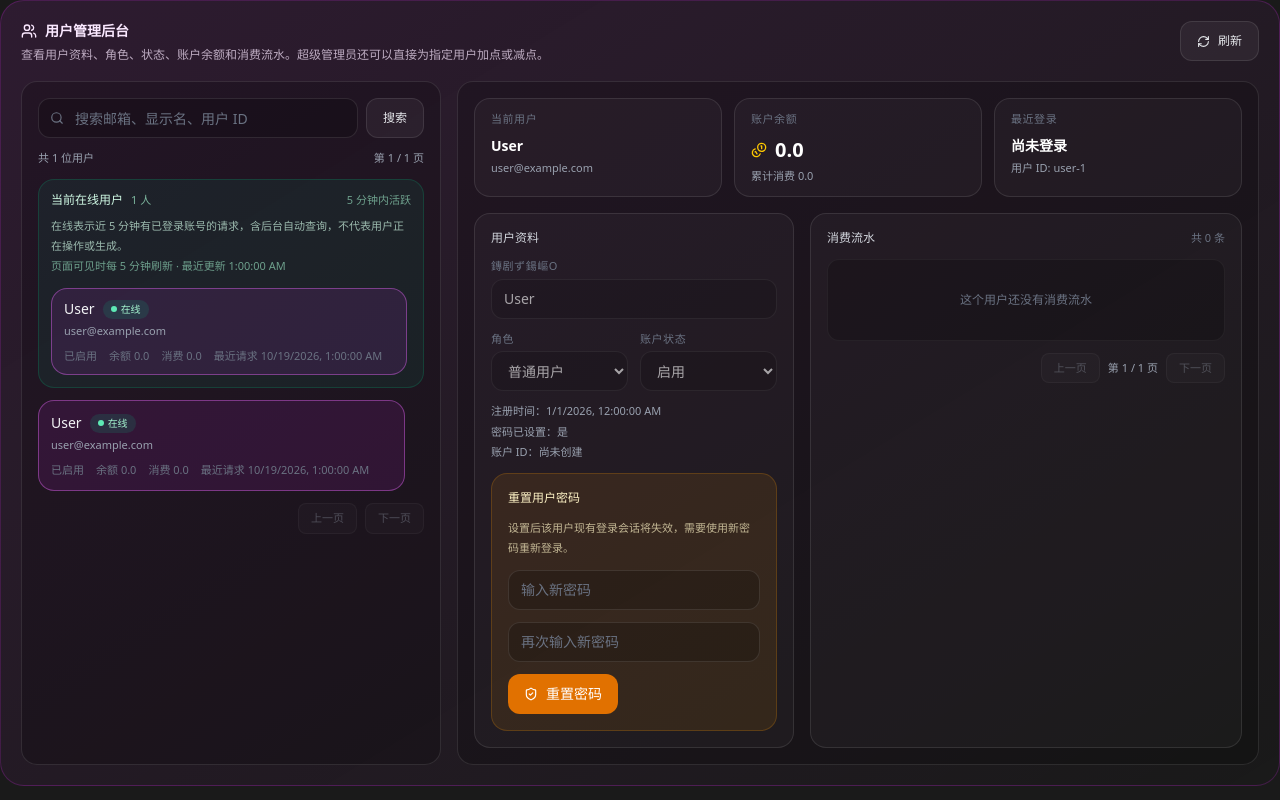
Test case: UserAdminPanel online status refresh › ignores a delayed background response after a different search is loaded
The image size is (1280, 800).
Step 1. Type "absent" into the field with placeholder "搜索邮箱、显示名、用户 ID" → (198, 118), box [38,98,358,138]
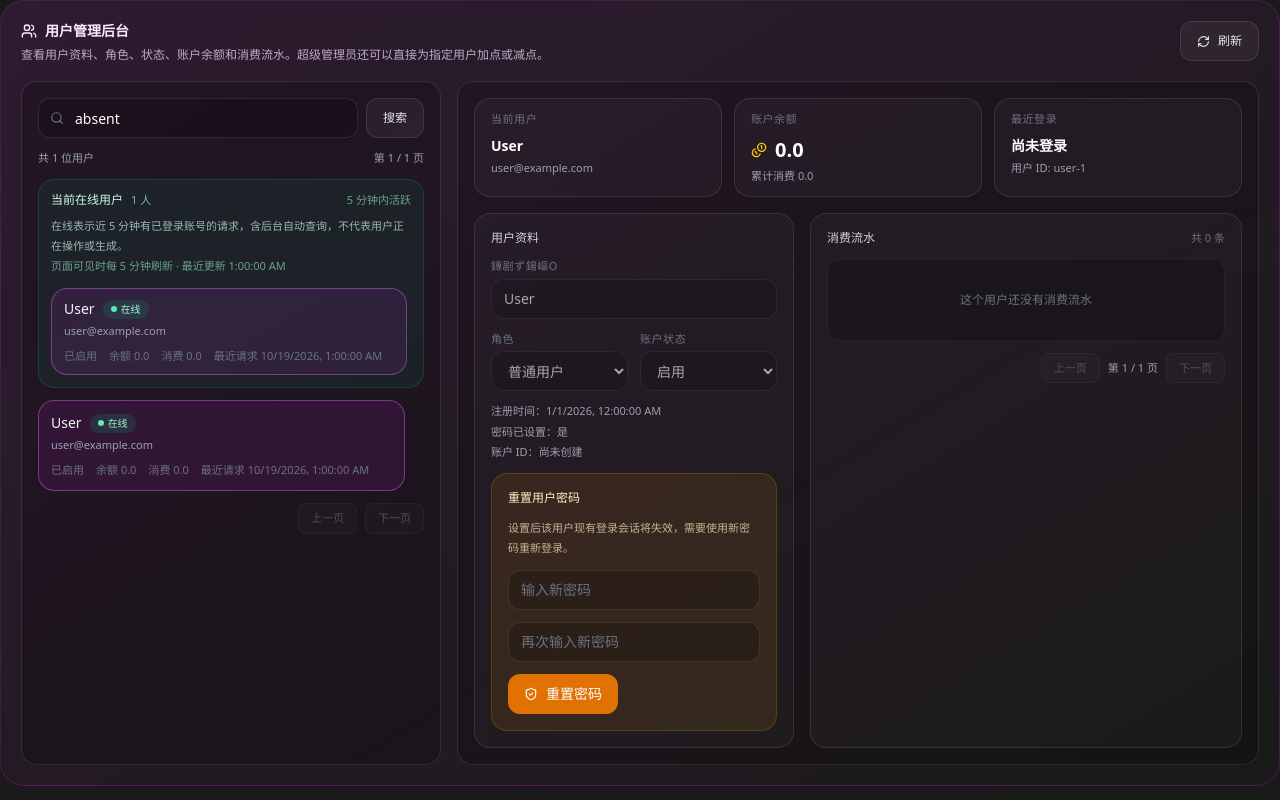
Step 2. Click the button "搜索" → (395, 118), box [366,98,424,138]
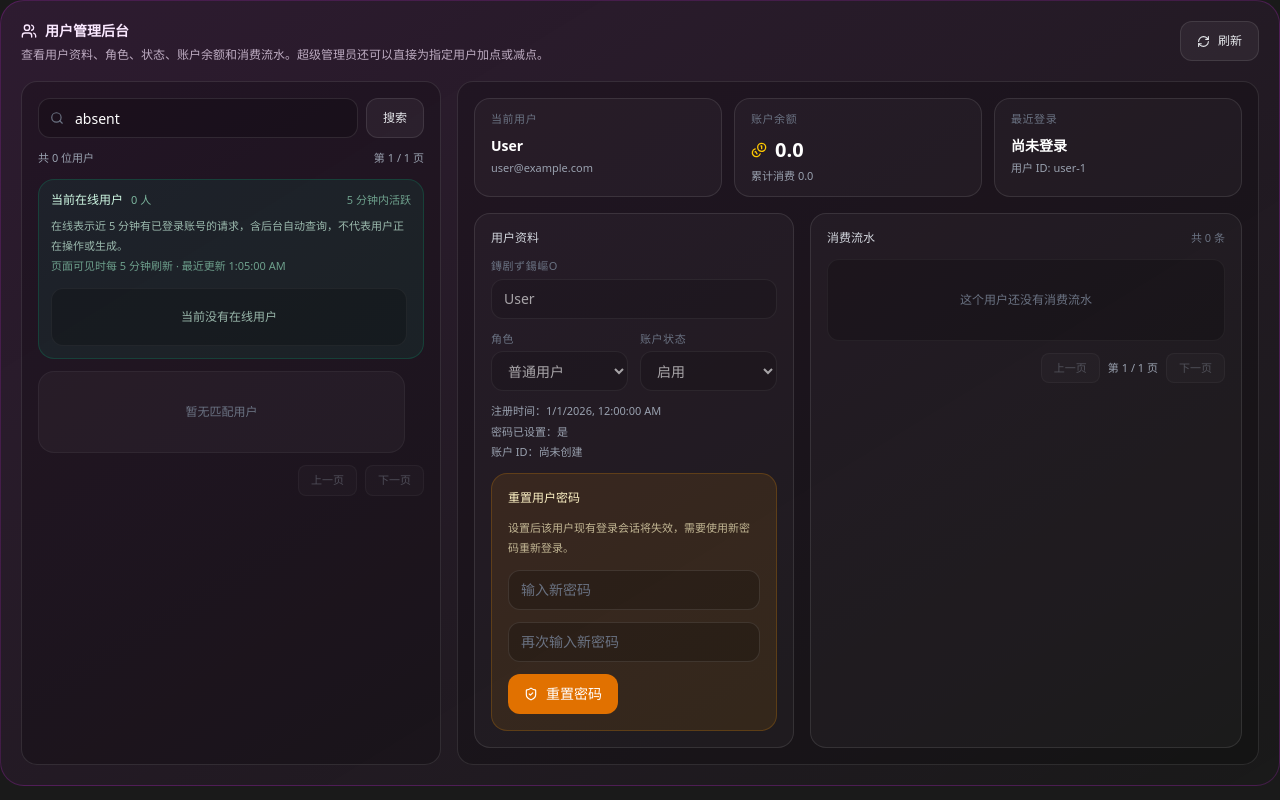
Expected: the text "共 0 位用户" is shown, [38,150,94,166]
